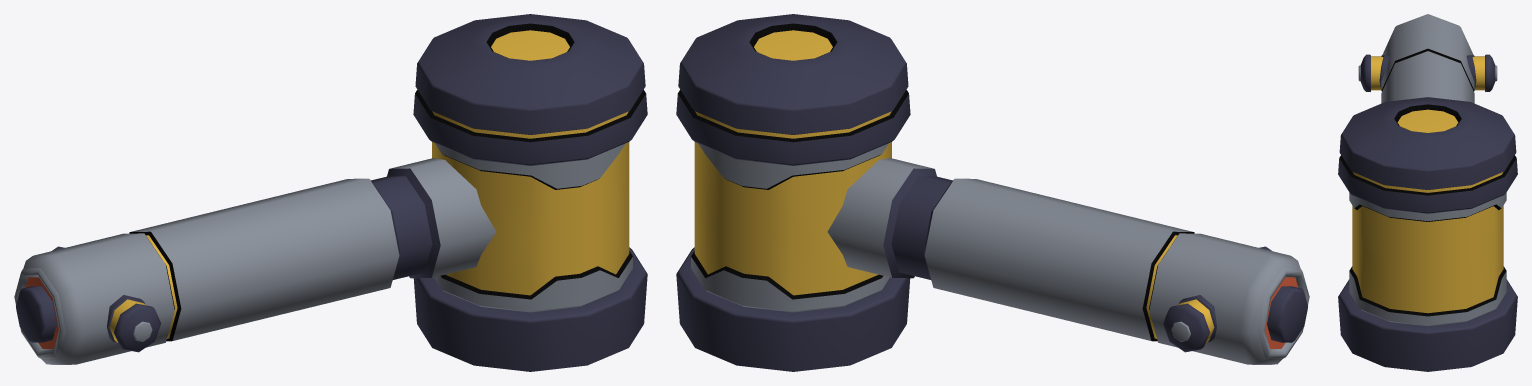
Rendered from Level18_Rotator_object.fbx.
The picture shows the model from 3 angles, left to right: view 1: azimuth 30°, elevation 25°; view 2: azimuth 150°, elevation 25°; view 3: azimuth 270°, elevation 25°; orthographic projection. The views are drawn at different scales.
Parts seen in each view (by area): view 1: pCylinder13, pCylinder14, pCylinder15; view 2: pCylinder13, pCylinder14, pCylinder15; view 3: pCylinder13, pCylinder14, pCylinder15 (×2).
Part boxes in pixels (left/top/right/bottom): pCylinder13: left=413, top=14, right=647, bottom=371; pCylinder14: left=14, top=158, right=496, bottom=364; pCylinder15: left=107, top=295, right=160, bottom=352; pCylinder13: left=676, top=14, right=910, bottom=371; pCylinder14: left=827, top=158, right=1309, bottom=364; pCylinder15: left=1163, top=295, right=1216, bottom=352; pCylinder13: left=1338, top=97, right=1517, bottom=371; pCylinder14: left=1381, top=14, right=1474, bottom=103; pCylinder15 (×2): left=1358, top=54, right=1497, bottom=91.
Bounding box in the file's own units: 72.15 × 32.19 × 24.25.
